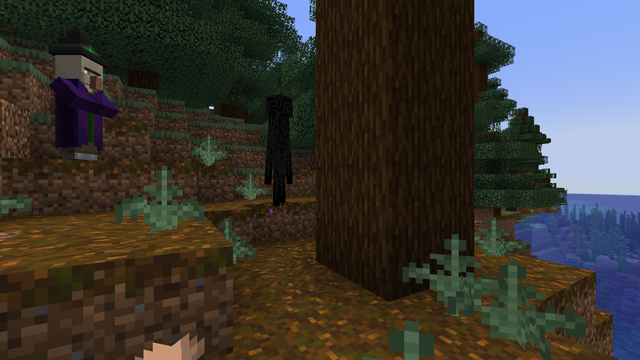endermens: (265, 89, 294, 204)
sorcieres: (52, 45, 104, 160)
